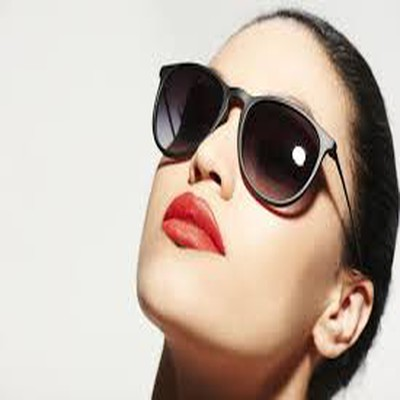eywear: (142, 35, 384, 209)
